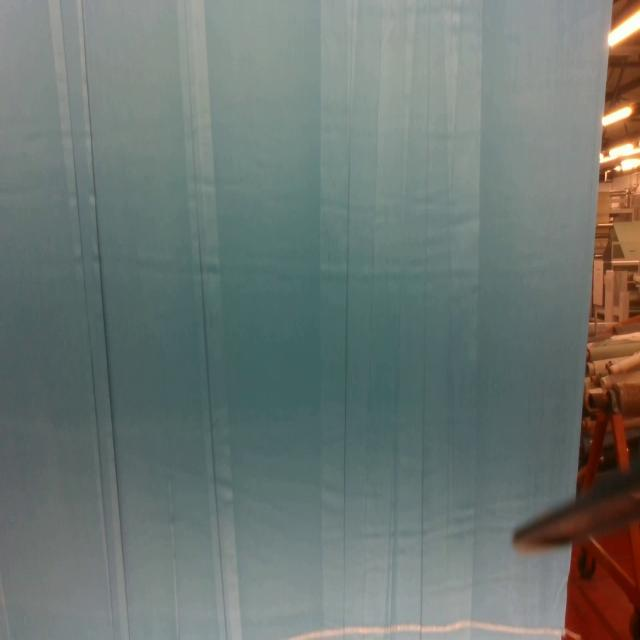crease: (51, 0, 131, 640), (176, 0, 230, 640), (341, 0, 356, 640), (417, 0, 432, 640)
